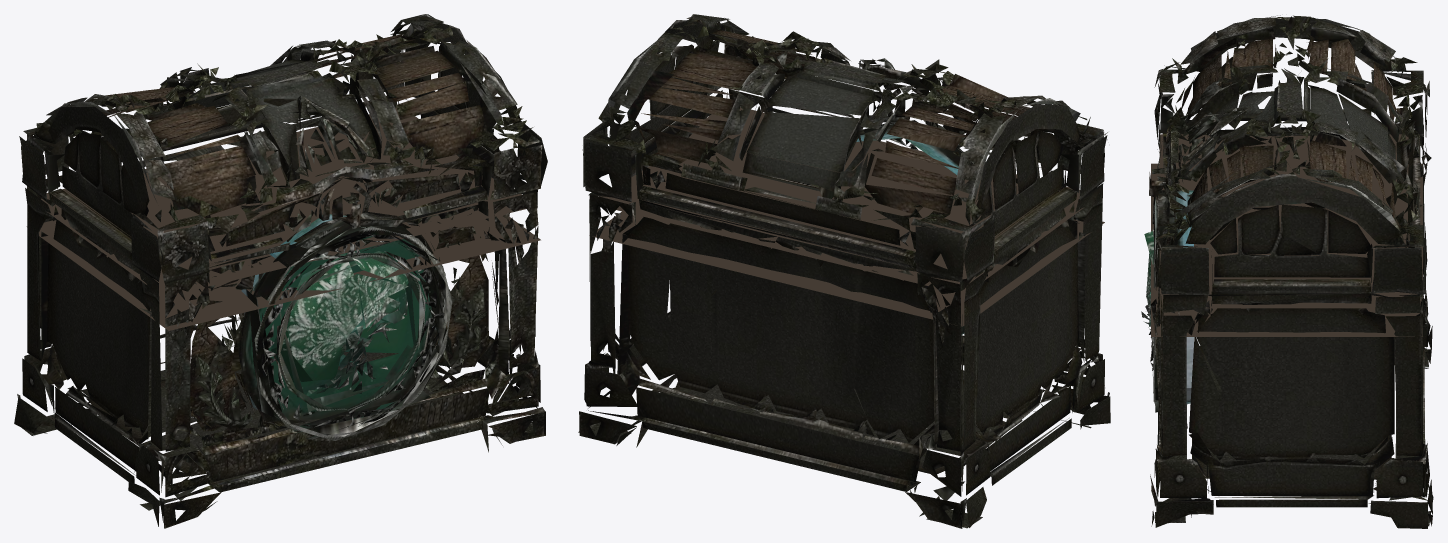
File: baule_sylvorn.glb
3 renders of one model, left to right at view 1: azimuth 30°, elevation 25°; view 2: azimuth 150°, elevation 25°; view 3: azimuth 270°, elevation 25°, orthographic. The views are drawn at different scales.
Visible parts, largest first — view 1: Corpo, Coperchio; view 2: Corpo, Coperchio; view 3: Coperchio, Corpo.
Boxes of the visible parts, <box> form: Corpo: <box>14,204,545,528</box>; Coperchio: <box>19,14,547,303</box>; Corpo: <box>578,203,1110,528</box>; Coperchio: <box>582,14,1107,301</box>; Coperchio: <box>1149,15,1429,314</box>; Corpo: <box>1141,142,1433,528</box>.
Size of the model in its own units: 1.01 by 0.9179 by 0.6855.
Materials: 2 (1 with a texture image).
